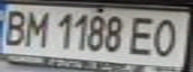1: (51, 9, 75, 50), (69, 11, 90, 51)
8: (103, 12, 130, 55), (87, 12, 109, 53)
B: (0, 7, 30, 47)
E: (124, 14, 160, 56)
M: (21, 8, 51, 48)
O: (148, 15, 187, 60)
